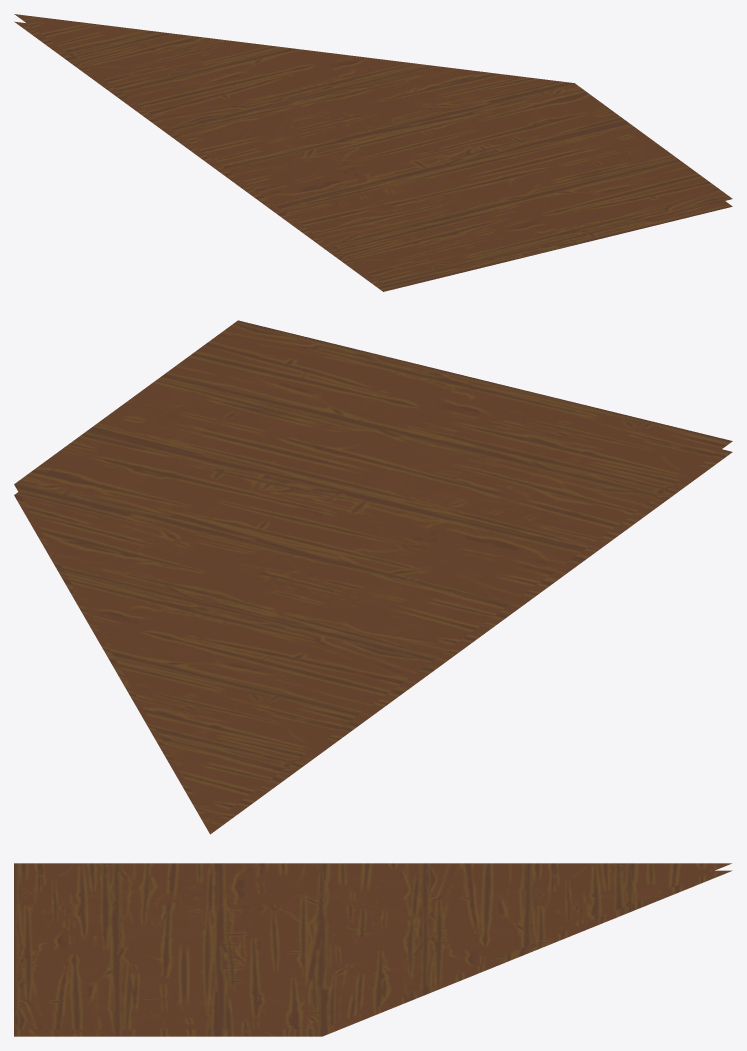
File: floor_wood_dark_overhang_corner2.glb
The picture shows the model from 3 angles, top to bottom: view 1: azimuth 30°, elevation 25°; view 2: azimuth 150°, elevation 25°; view 3: azimuth 270°, elevation 25°; orthographic projection. The views are drawn at different scales.
Visible parts, largest first — view 1: Floor_WoodDark_OverhangCorner2; view 2: Floor_WoodDark_OverhangCorner2; view 3: Floor_WoodDark_OverhangCorner2.
Part boxes in pixels (<box>): Floor_WoodDark_OverhangCorner2: <box>14,14,732,291</box>; Floor_WoodDark_OverhangCorner2: <box>14,320,732,834</box>; Floor_WoodDark_OverhangCorner2: <box>14,863,732,1036</box>.
Bounding box in the file's own units: 0.9566 × 0.02 × 1.75.
1 material, 1 textured.
